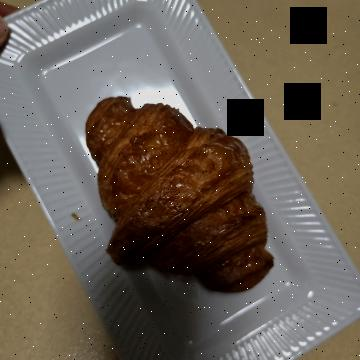croissant: (71, 78, 294, 279)
